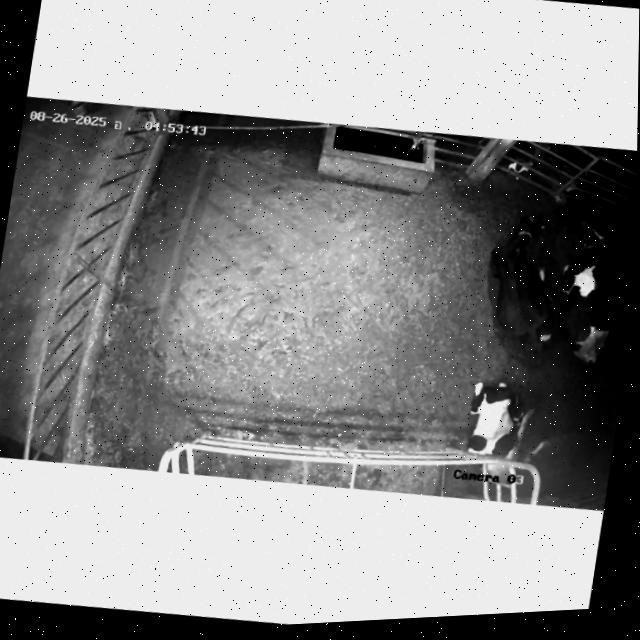lay: (462, 203, 579, 383), (551, 204, 636, 390), (452, 369, 560, 480)
